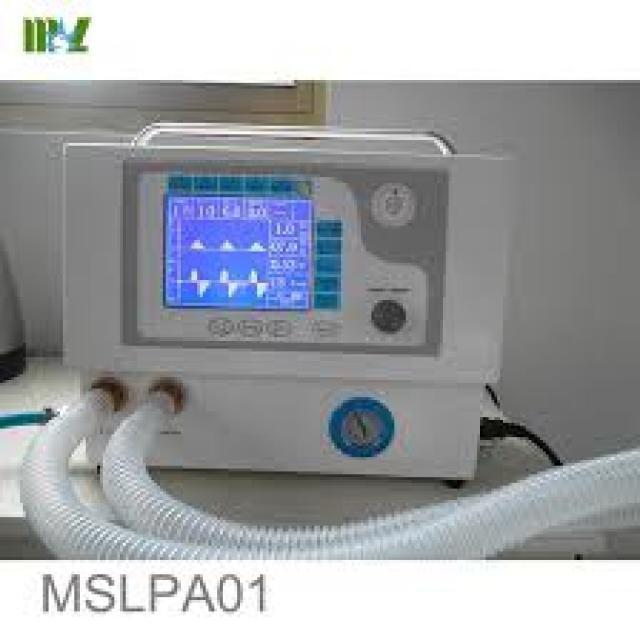cardiac_monitor: (69, 103, 565, 464)
